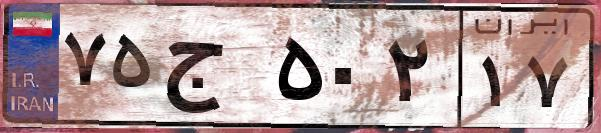0: (330, 28, 385, 110)
1: (475, 38, 525, 113)
2: (385, 28, 445, 110)
5: (270, 28, 330, 110), (110, 28, 158, 98)
7: (57, 26, 110, 100), (525, 38, 570, 115)
ج: (158, 20, 270, 120)
